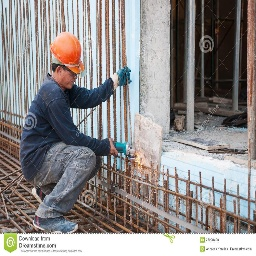helmet: (51, 31, 81, 72)
no-vest: (20, 80, 80, 181)
person: (19, 29, 96, 233)
